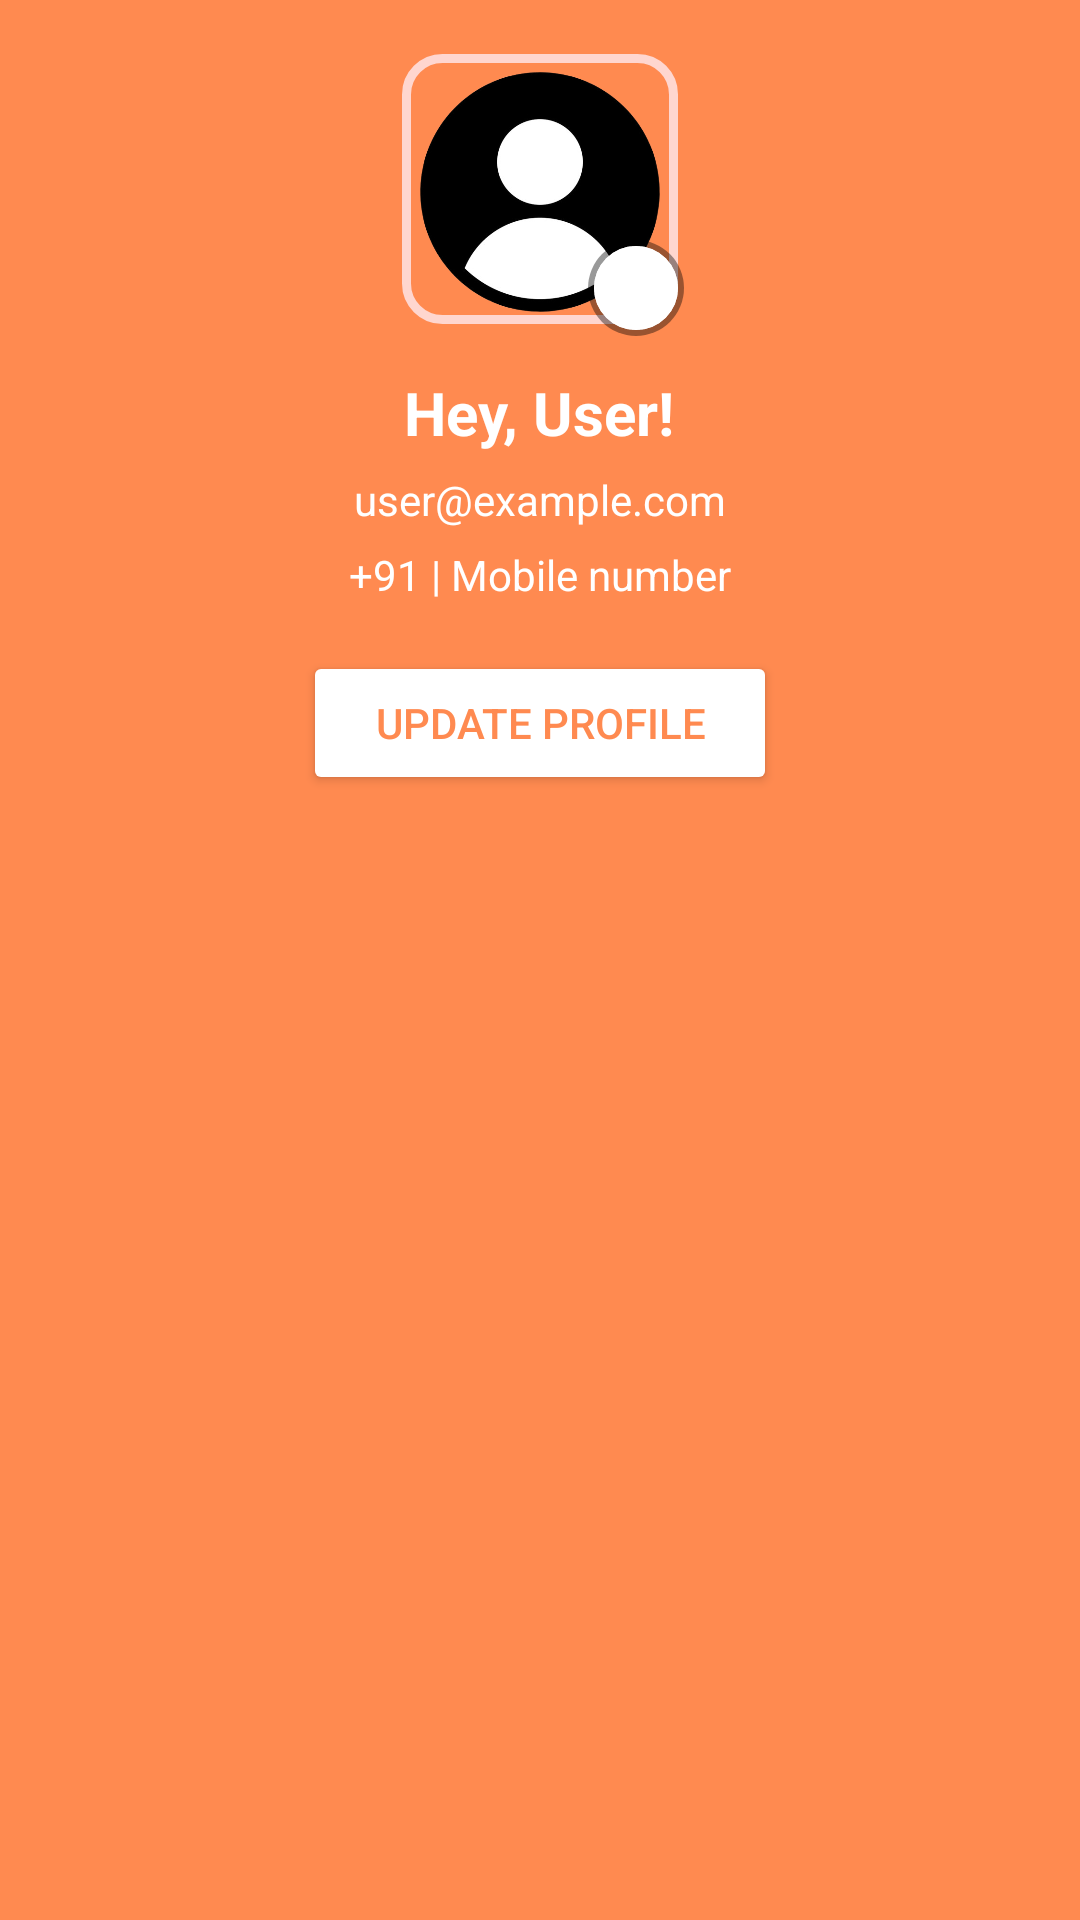

Point at icon controls on the screen. Image size 1080px x 1920px, points as point (x, y).
Profile Picture: point (543, 195)
